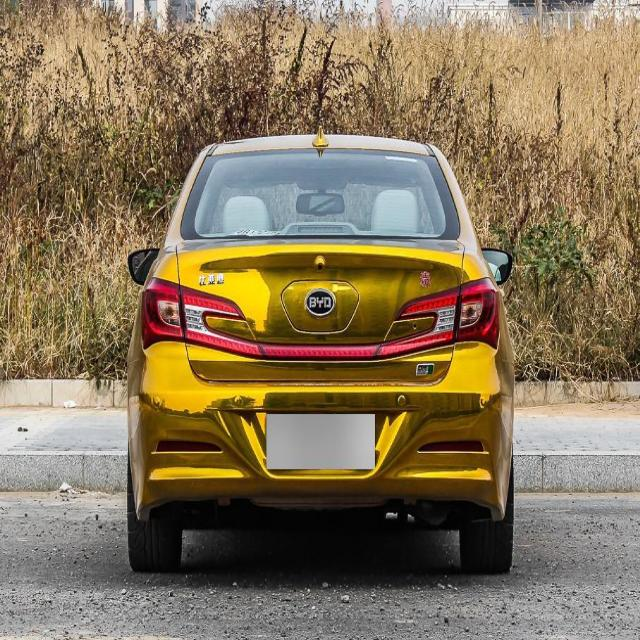back_glass: (178, 144, 461, 242)
back_left_side_light: (141, 274, 186, 350)
back_right_side_light: (453, 275, 501, 348)
front_left_side_mirror: (126, 246, 161, 286)
front_right_side_mirror: (480, 248, 513, 288)
rear_bumper: (127, 340, 515, 524)
